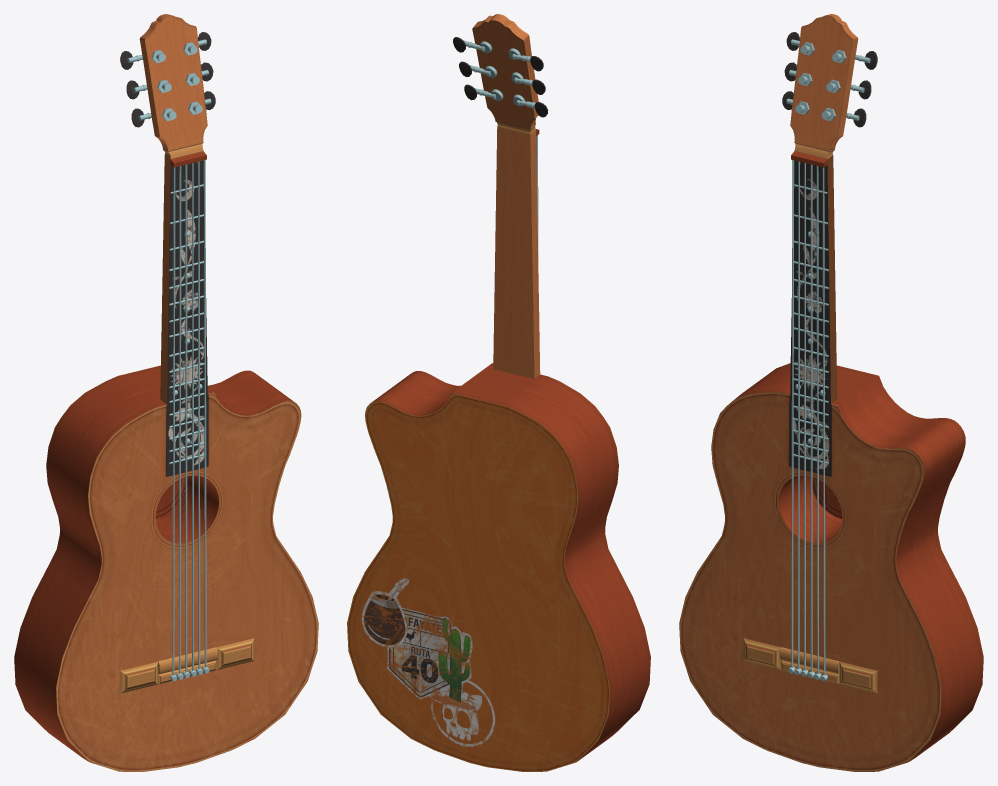
Rendered from SM_Rock_Guitar.fbx.
The picture shows the model from 3 angles, left to right: view 1: azimuth 30°, elevation 25°; view 2: azimuth 150°, elevation 25°; view 3: azimuth 330°, elevation 25°; orthographic projection.
Visible parts, largest first — view 1: polySurface158; view 2: polySurface158; view 3: polySurface158.
Part boxes in pixels (bbox=[...]): polySurface158: bbox=[14, 14, 318, 771]; polySurface158: bbox=[347, 14, 650, 771]; polySurface158: bbox=[679, 14, 983, 771].
Size of the model in its own units: 47.2 by 126 by 13.99.
